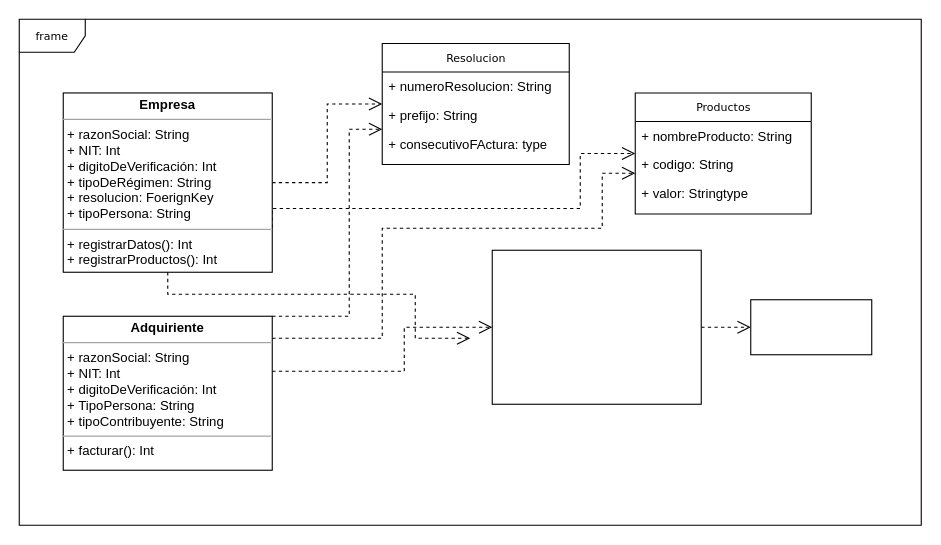
The diagram is 941 pixels wide and 545 high, and some of its shapes have lost their labels. The shapes that lost their labels are listed below. From the top down, each one's centre as x and y in pixels, then its label:
At point 596,326: "impuerstos + IVA: String + ICA: String".
At point 811,327: "factura DIAN".
